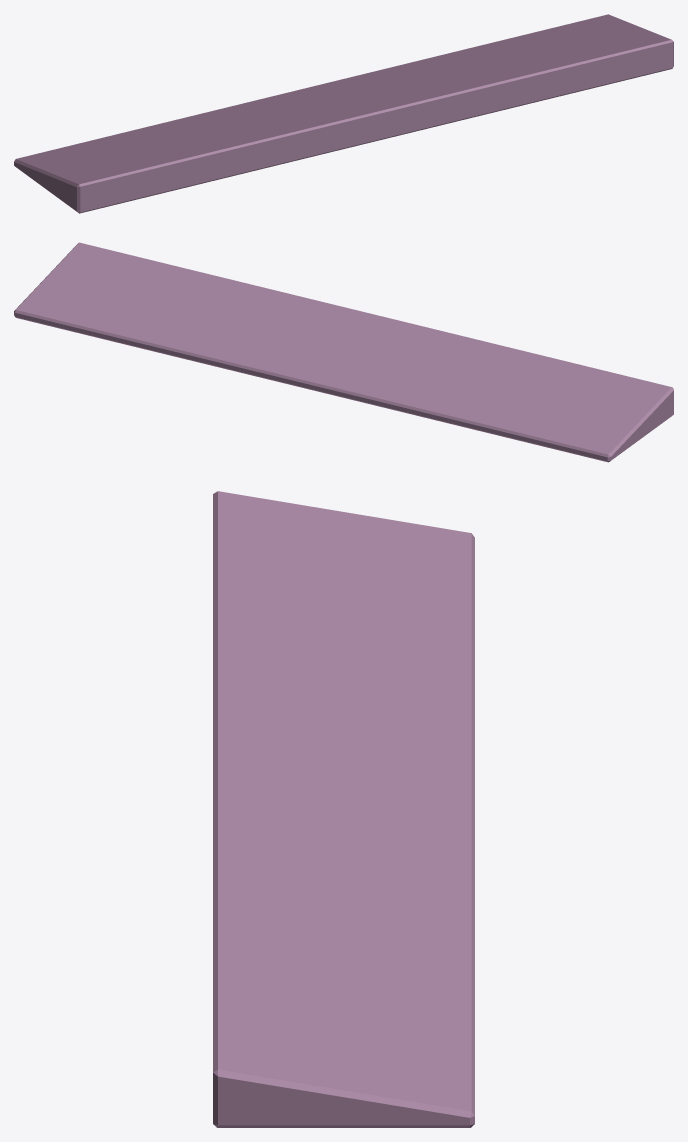
The model's file is mesh_lilRampMod.fbx.
3 renders of one model, top to bottom at view 1: azimuth 30°, elevation 25°; view 2: azimuth 150°, elevation 25°; view 3: azimuth 270°, elevation 25°, orthographic. The views are drawn at different scales.
Parts seen in each view (by area): view 1: mesh_lilRampMod_v03; view 2: mesh_lilRampMod_v03; view 3: mesh_lilRampMod_v03.
Boxes of the visible parts, bbox=[...] form: mesh_lilRampMod_v03: bbox=[14, 14, 673, 213]; mesh_lilRampMod_v03: bbox=[14, 242, 673, 462]; mesh_lilRampMod_v03: bbox=[213, 491, 474, 1127].
Size of the model in its own units: 30 by 1.4 by 5.7.
